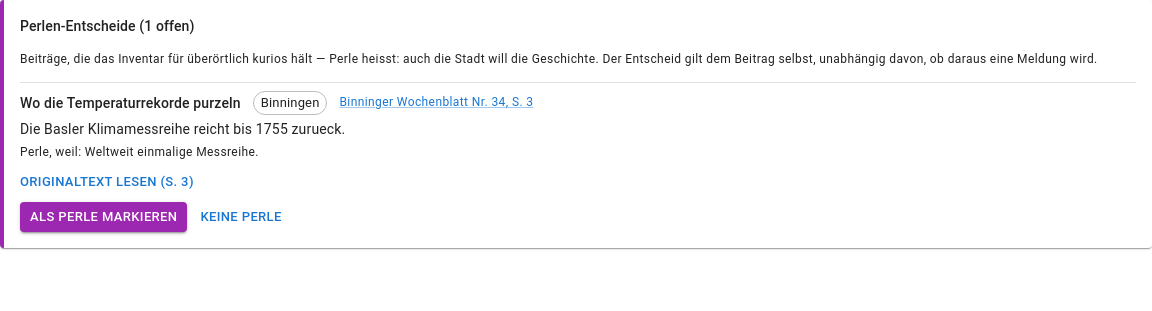
Test: Chefredaktion › haelt fuer den Perlen-Entscheid den Originaltext bereit
The width and height of the screenshot is (1152, 311).
What coordinates should you click on to do the following:
click the button "Originaltext lesen (S. 3)"
I would click on:
 (107, 182)
Its box is x1=20 y1=167 x2=194 y2=198.
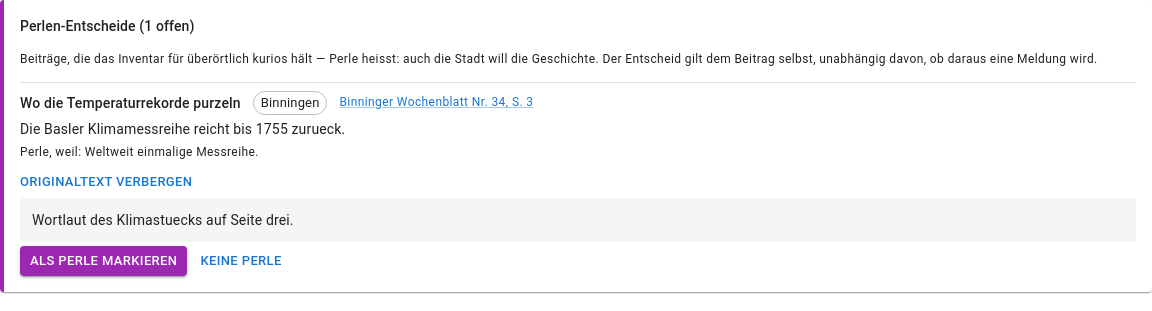
Now the text "Wortlaut des Klimastuecks auf Seite drei." is shown, box x1=32 y1=212 x2=294 y2=228
